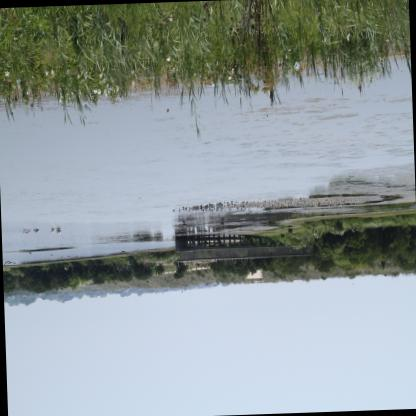Animal: (56, 228, 59, 234)
